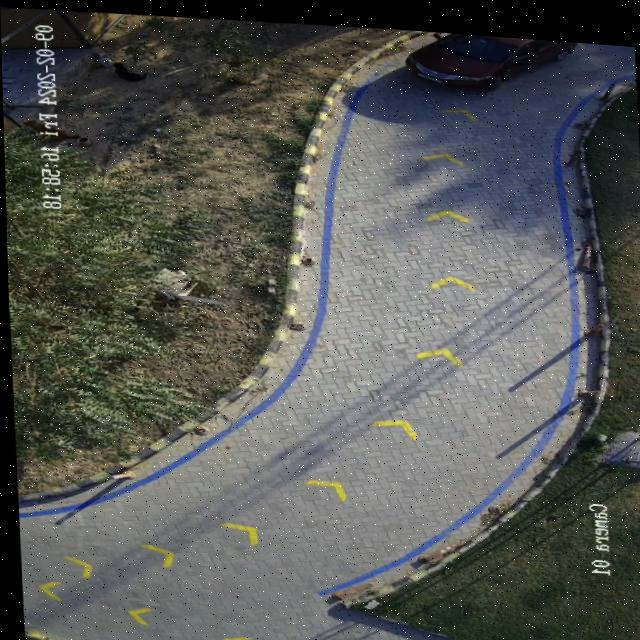car: (405, 26, 575, 83)
